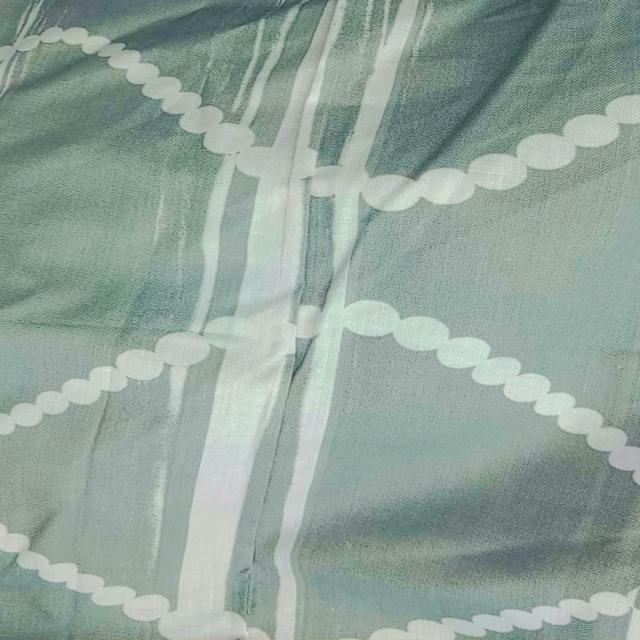selvet: (186, 7, 421, 338), (129, 339, 345, 638)
